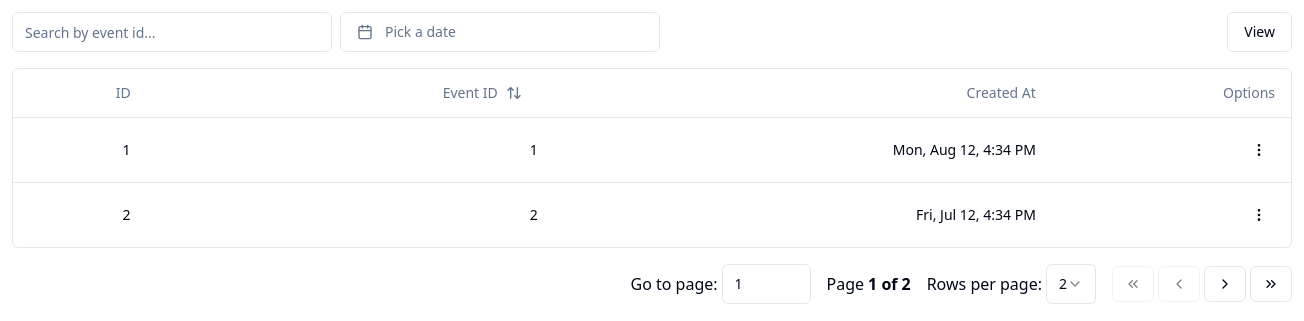
it: JournalDataTable › should filter data based on eventId input
Type "2" into the field with placeholder "Search by event id...".
click(172, 32); type("2")  # box [12,12,332,52]
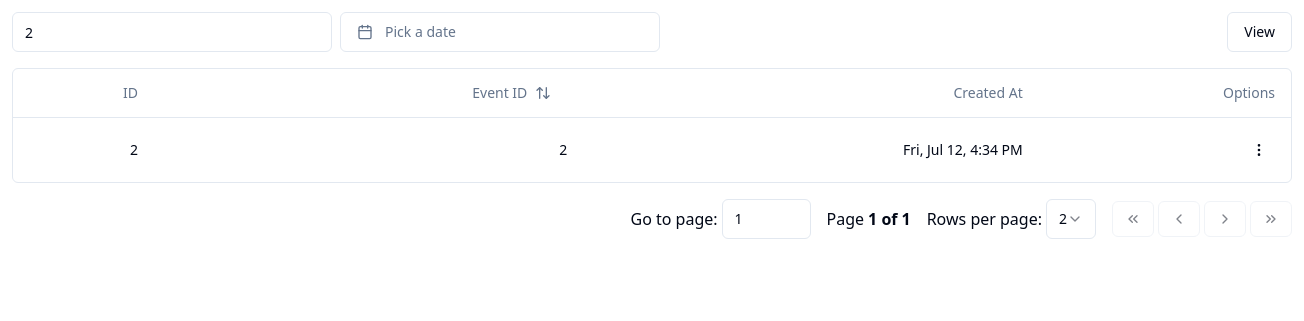
Expected: the number of cells "2" is 2, [13,117,154,182]; [154,117,583,182]
